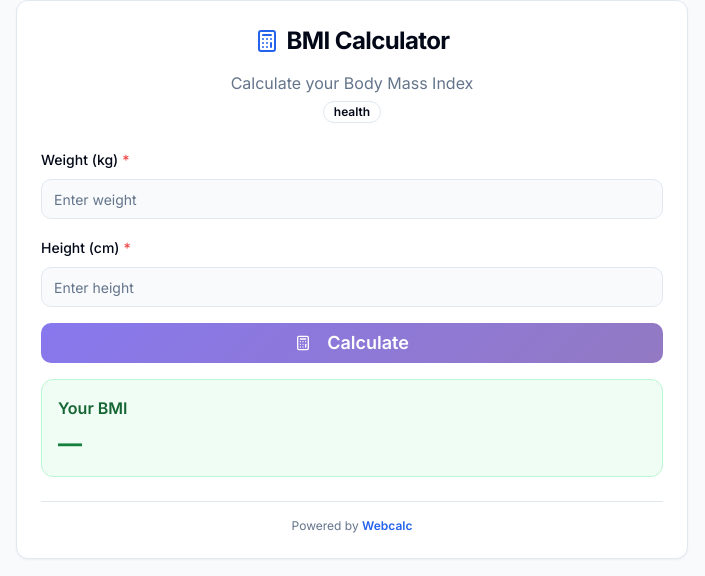
Three Main Calculators Validation › BMI Calculator › calculates BMI correctly
Type "70" into the number field with test id "input-weight". click: (352, 199)
box: x1=41 y1=179 x2=663 y2=219
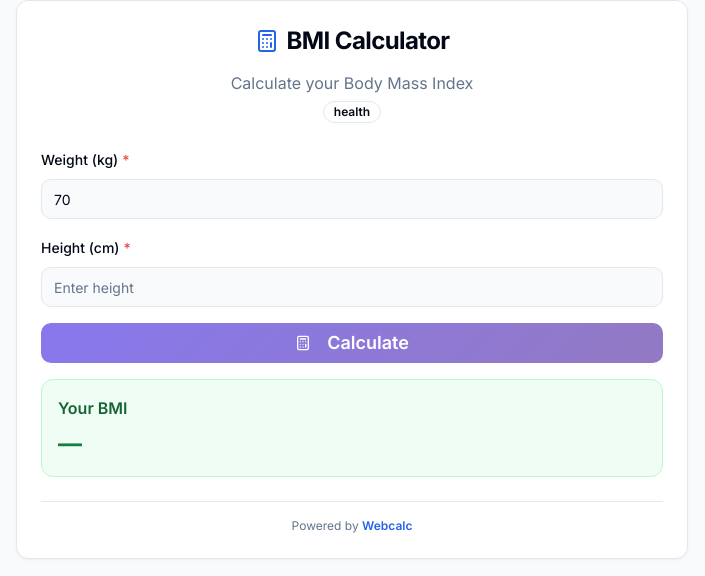
Type "175" into the number field with test id "input-height". click: (352, 287)
box: x1=41 y1=267 x2=663 y2=307
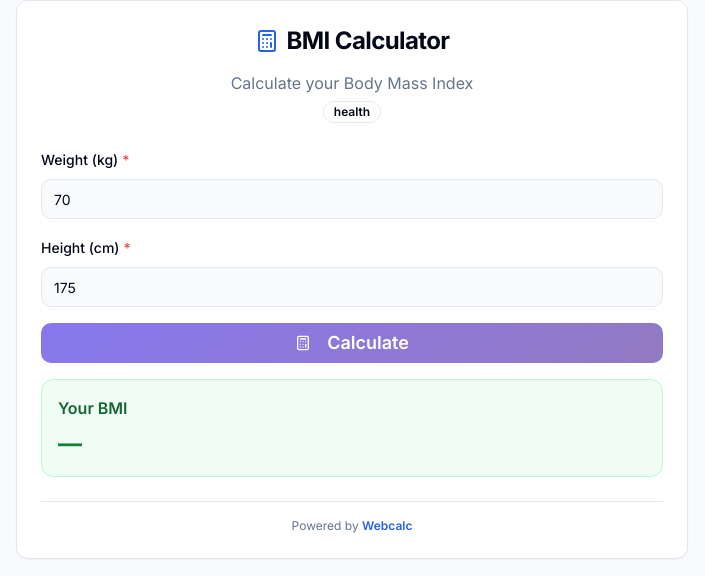
Click the button with test id "button-calculate". click: (352, 343)
box: x1=41 y1=323 x2=663 y2=363
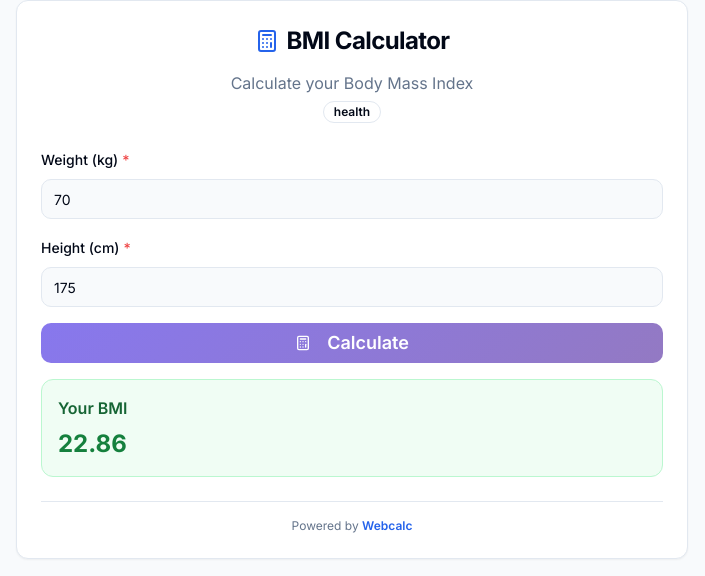
Check: the text with test id "text-result" reads "22.86", box x1=58 y1=429 x2=127 y2=458
